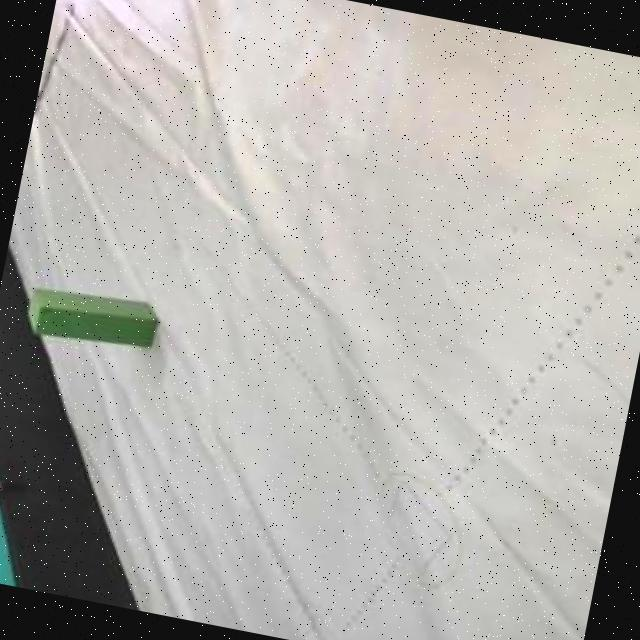greenbox: (18, 276, 164, 358)
